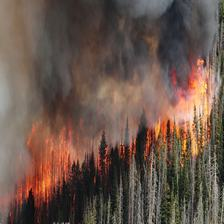fire: (17, 122, 96, 208), (154, 50, 218, 145)
